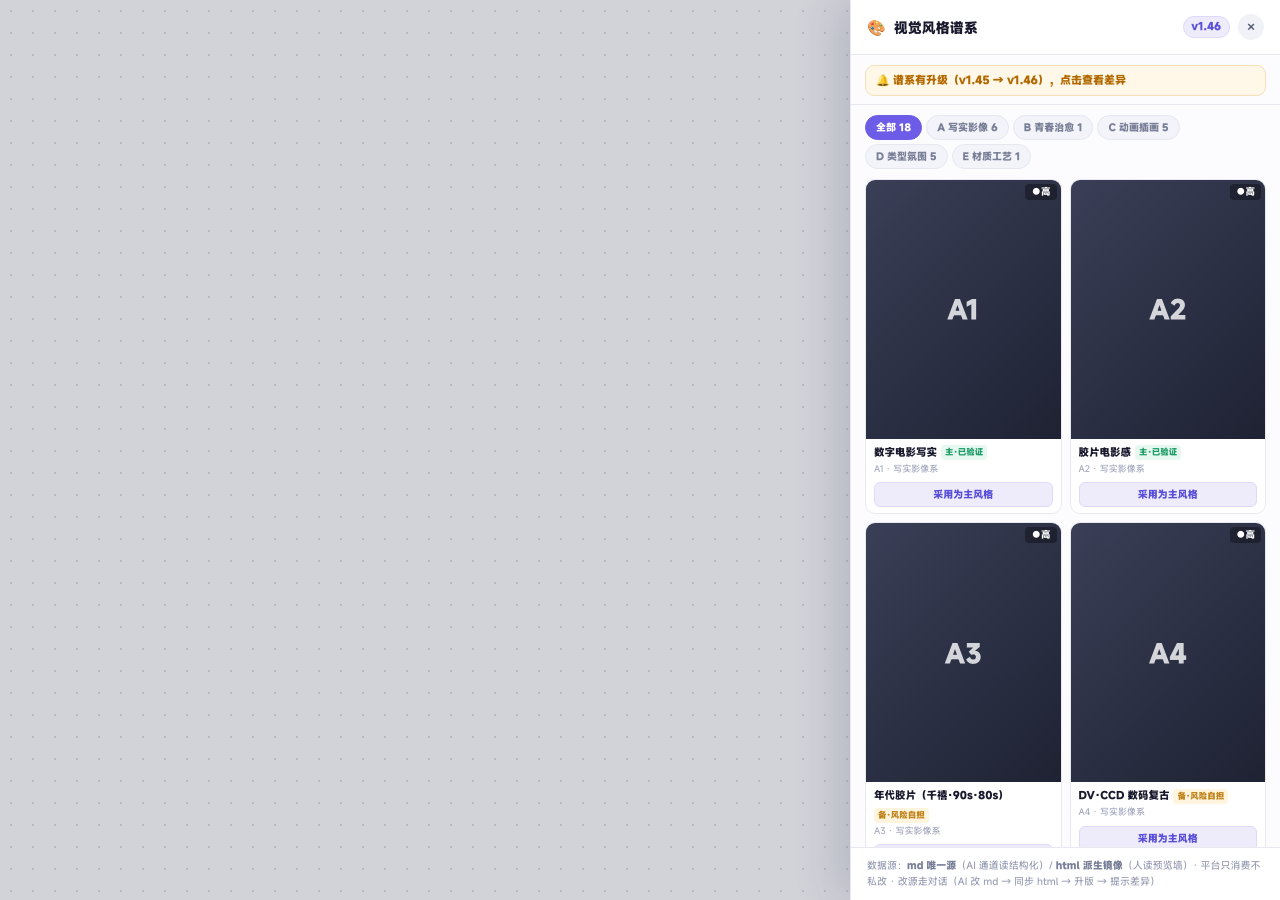
VisualCatalog 谱系升级差异工作流（feature-810 AC5） › 差异面板 › 完整渲染：版本线 / 口径文案 / 引用条目现况 / changelog / 双按钮
Click the button "🔔 谱系有升级（v1.45 → v1.46），点击查看差异": (1066, 80) [865,65,1266,96]
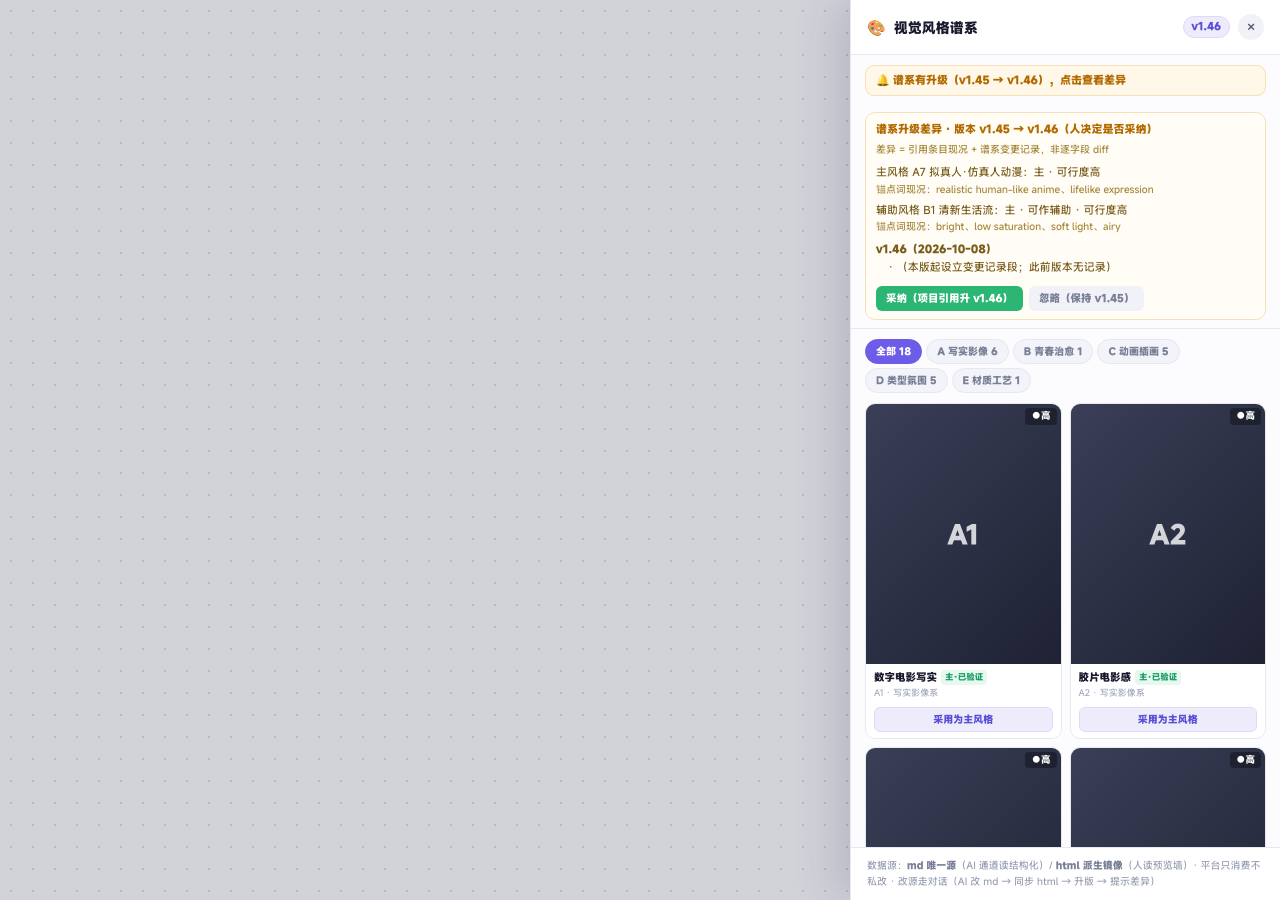
Result: the element with test id "style-upgrade-panel" is shown at [865,112,1266,320]
Result: the text with test id "style-upgrade-versions" reads "v1.45 → v1.46" at [979,122,1058,136]
Result: the text "差异 = 引用条目现况 + 谱系变更记录，非逐字段 diff" is shown at [876,143,1109,156]
